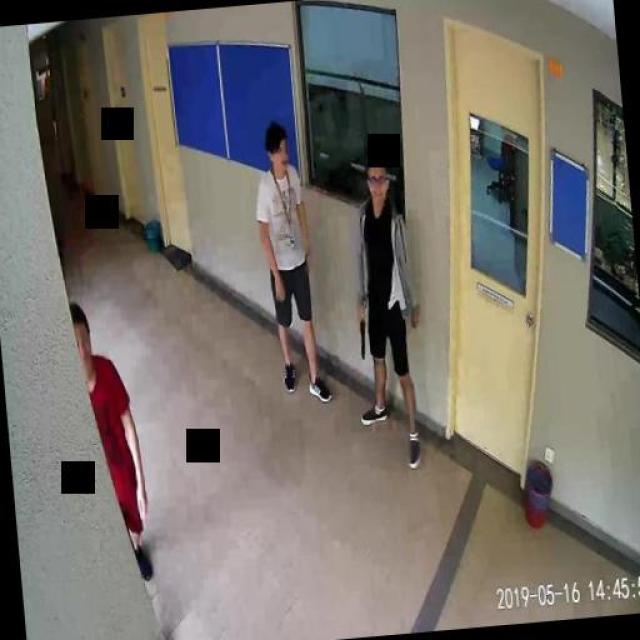gun: (355, 314, 367, 358)
